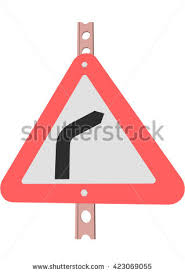Bend_to_right: (1, 52, 185, 207)
